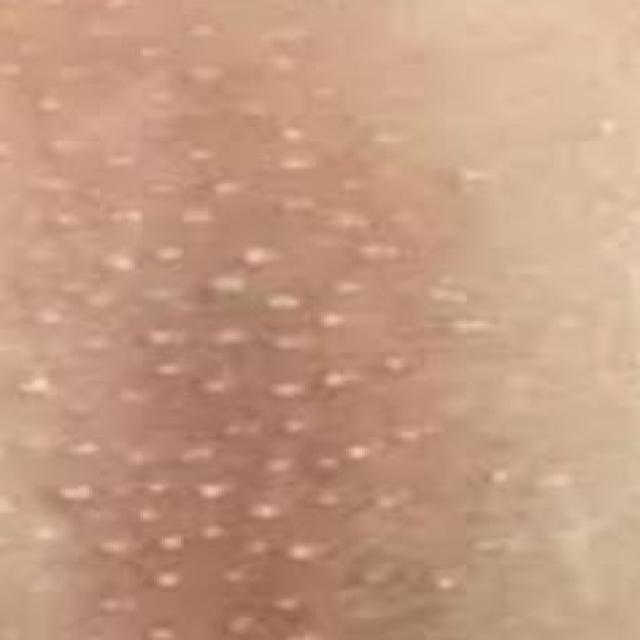whitehead: (20, 32, 496, 637)
